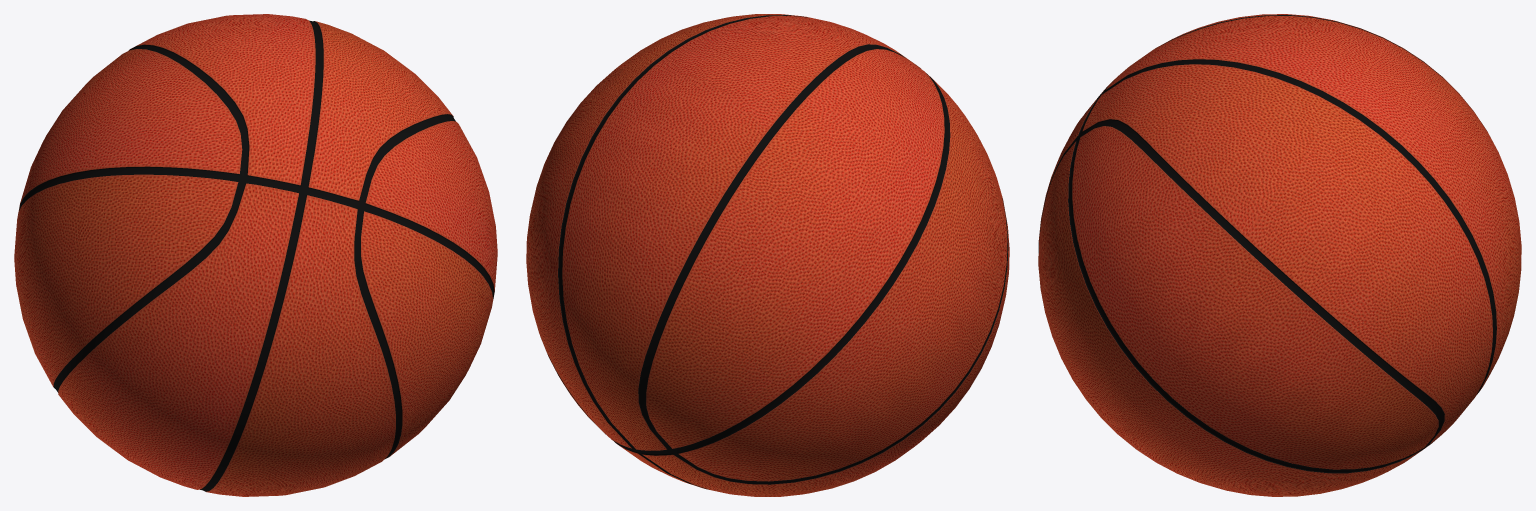
The model's file is newBasketball.FBX.
3 views of the same model, side by side, from view 1: azimuth 30°, elevation 25°; view 2: azimuth 150°, elevation 25°; view 3: azimuth 270°, elevation 25° (orthographic).
Parts seen in each view (by area): view 1: basket_ball; view 2: basket_ball; view 3: basket_ball.
Boxes of the visible parts, box(x1,y1,x2,y2) form: basket_ball: box(14, 14, 497, 496); basket_ball: box(526, 14, 1009, 496); basket_ball: box(1038, 14, 1521, 496).
Bounding box in the file's own units: 96.29 × 96.58 × 96.48.
Materials: 1 (1 with a texture image).
